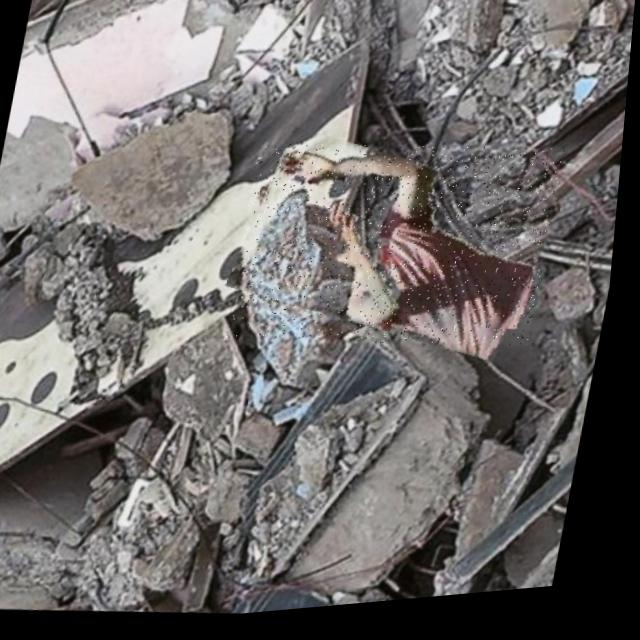Person in Rubble: (226, 126, 570, 376)
